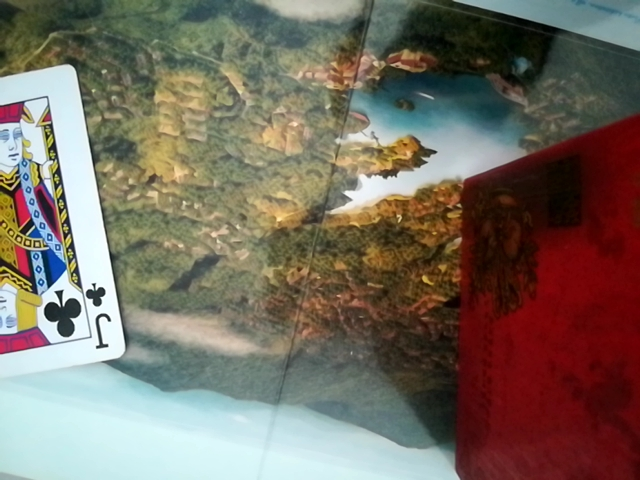mh j: (0, 66, 123, 395)
